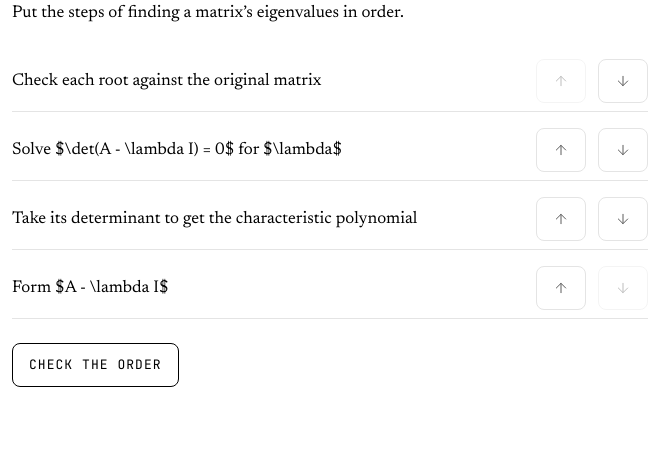
Test: OrderingArtefact › says so plainly when the order is still wrong
Click the button "Check the order".
click(95, 365)  # box [12,343,179,387]
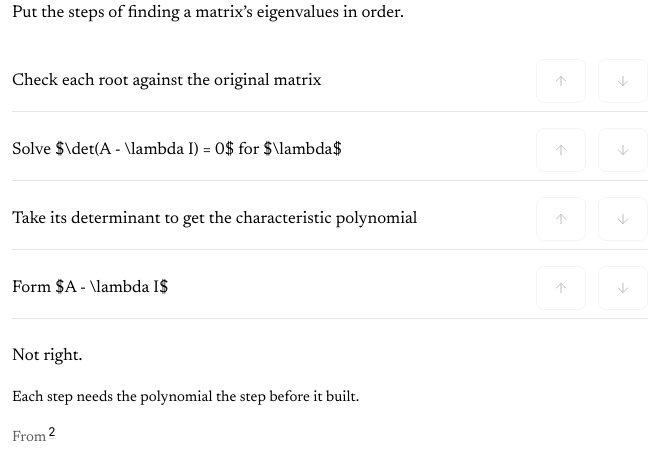
Now the message reads "Not right.", box [12,348,82,365]
Now the text "Each step needs the polynomial the step before it built." is shown, box [12,390,359,405]
